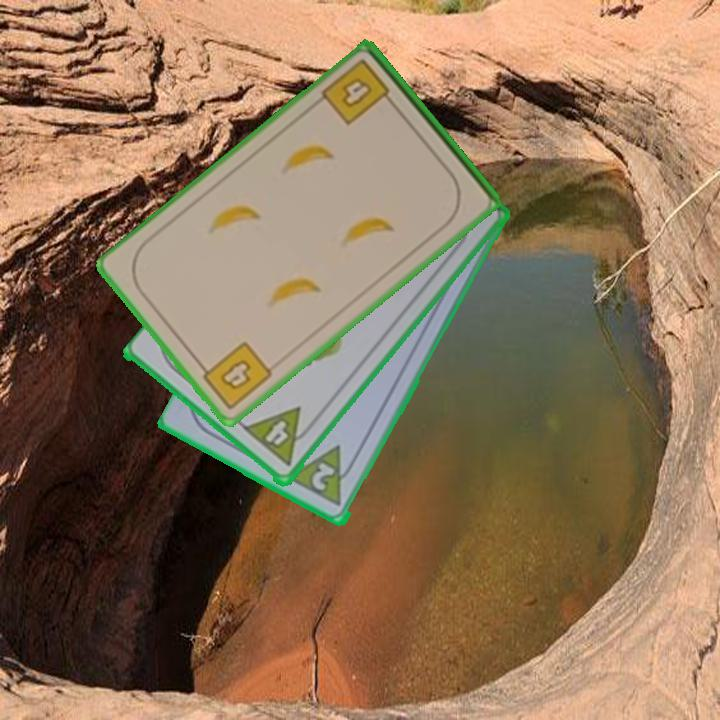2p: (286, 442, 361, 511)
4b: (194, 338, 276, 413), (318, 55, 399, 129)
4p: (241, 404, 319, 470)
